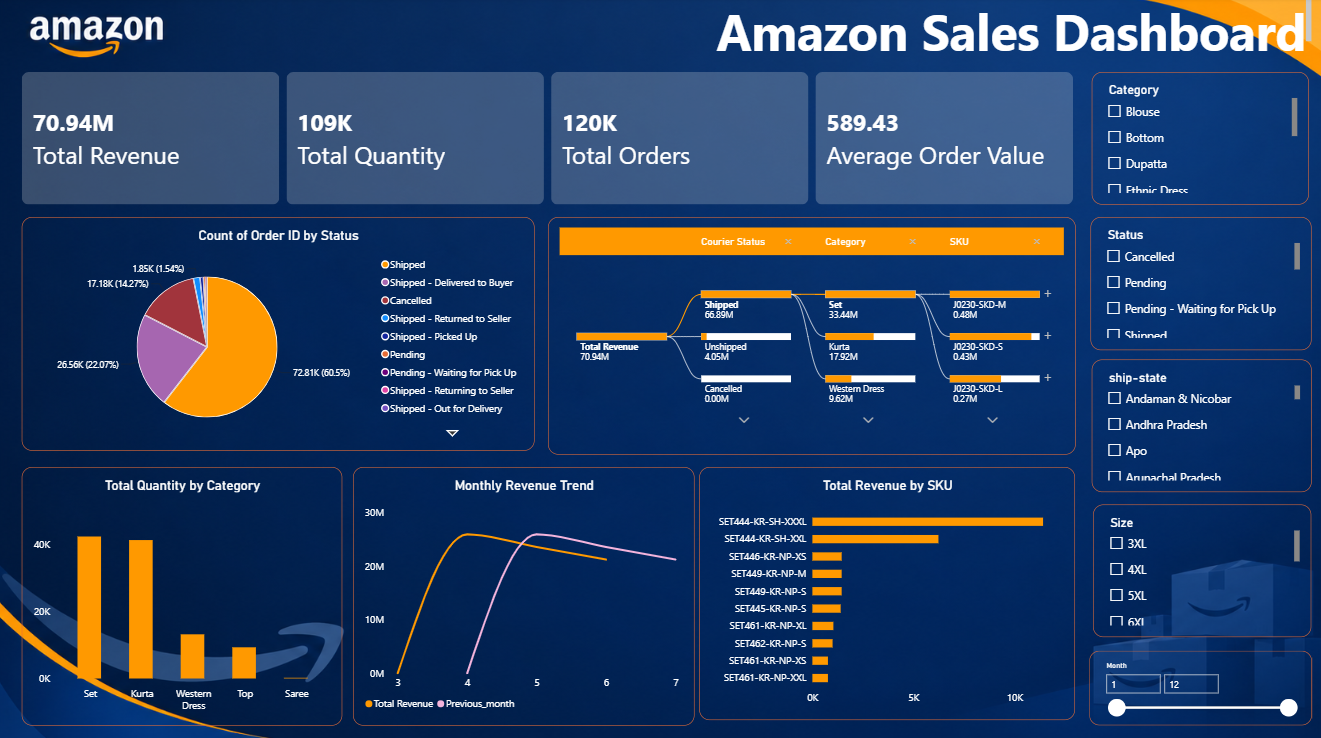

The dashboard page shown, as its layout file describes it:
{"tool":"powerbi","page":{"name":"Overview","canvas":[1920,1080],"ordinal":0},"visuals":[{"type":"cardVisual","fields":{"Data":["Fact Amazon_Sales.Total Revenue","Fact Amazon_Sales.Total Quantity","Fact Amazon_Sales.Total Orders","Fact Amazon_Sales.Average Order Value"]},"box":[34,108,1525,192.5],"z":0},{"type":"slicer","fields":{"Values":["Dim Product.Category"]},"box":[1584,108,314,192],"z":1000},{"type":"slicer","fields":{"Values":["Fact Amazon_Sales.Status"]},"box":[1582,318,320,192.5],"z":2000},{"type":"slicer","fields":{"Values":["Dim Location.ship-state"]},"box":[1584,524,318,192],"z":3000},{"type":"slicer","fields":{"Values":["Dim Calender.Month"]},"box":[1580,946,322,108],"z":4000},{"type":"slicer","fields":{"Values":["Dim Product.Size"]},"box":[1586,734,316,192],"z":5000},{"type":"textbox","box":[960,0,942,78],"z":6000},{"type":"columnChart","fields":{"Category":["Dim Product.Category"],"Y":["Fact Amazon_Sales.Total Quantity"]},"box":[34,680,464,374],"z":7000},{"type":"lineChart","title":"Monthly Revenue Trend","fields":{"Category":["Dim Calender.Month"],"Y":["Fact Amazon_Sales.Total Revenue","Fact Amazon_Sales.Previous_month"]},"box":[514,680,494,374],"z":8000},{"type":"clusteredBarChart","fields":{"Category":["Dim Product.SKU"],"Y":["Fact Amazon_Sales.Total Revenue"]},"box":[1016,680,544,366],"z":9000},{"type":"pieChart","fields":{"Category":["Fact Amazon_Sales.Status"],"Y":["CountNonNull(Fact Amazon_Sales.Order ID)"]},"box":[34,318,742,338],"z":10000},{"type":"decompositionTreeVisual","fields":{"Analyze":["Fact Amazon_Sales.Total Revenue"],"ExplainBy":["Fact Amazon_Sales.Courier Status","Dim Product.Category","Dim Product.SKU","Dim Location.ship-state"]},"box":[796,318,764,344],"z":11000}]}

Visuals, with their boxes in screenshot pixels (x1, y1, x2, y2), scaled from the page's 1920x1080 canvas onto the 1321x738 screenshot:
cardVisual - Fact Amazon_Sales.Total Revenue x Fact Amazon_Sales.Total Quantity: 23, 74, 1073, 205
slicer - Dim Product.Category: 1090, 74, 1306, 205
slicer - Fact Amazon_Sales.Status: 1088, 217, 1309, 349
slicer - Dim Location.ship-state: 1090, 358, 1309, 489
slicer - Dim Calender.Month: 1087, 646, 1309, 720
slicer - Dim Product.Size: 1091, 502, 1309, 633
textbox: 660, 0, 1309, 53
columnChart - Dim Product.Category x Fact Amazon_Sales.Total Quantity: 23, 465, 343, 720
"Monthly Revenue Trend" lineChart: 354, 465, 694, 720
clusteredBarChart - Dim Product.SKU x Fact Amazon_Sales.Total Revenue: 699, 465, 1073, 715
pieChart - Fact Amazon_Sales.Status x CountNonNull(Fact Amazon_Sales.Order ID): 23, 217, 534, 448
decompositionTreeVisual - Fact Amazon_Sales.Total Revenue x Fact Amazon_Sales.Courier Status: 548, 217, 1073, 452
